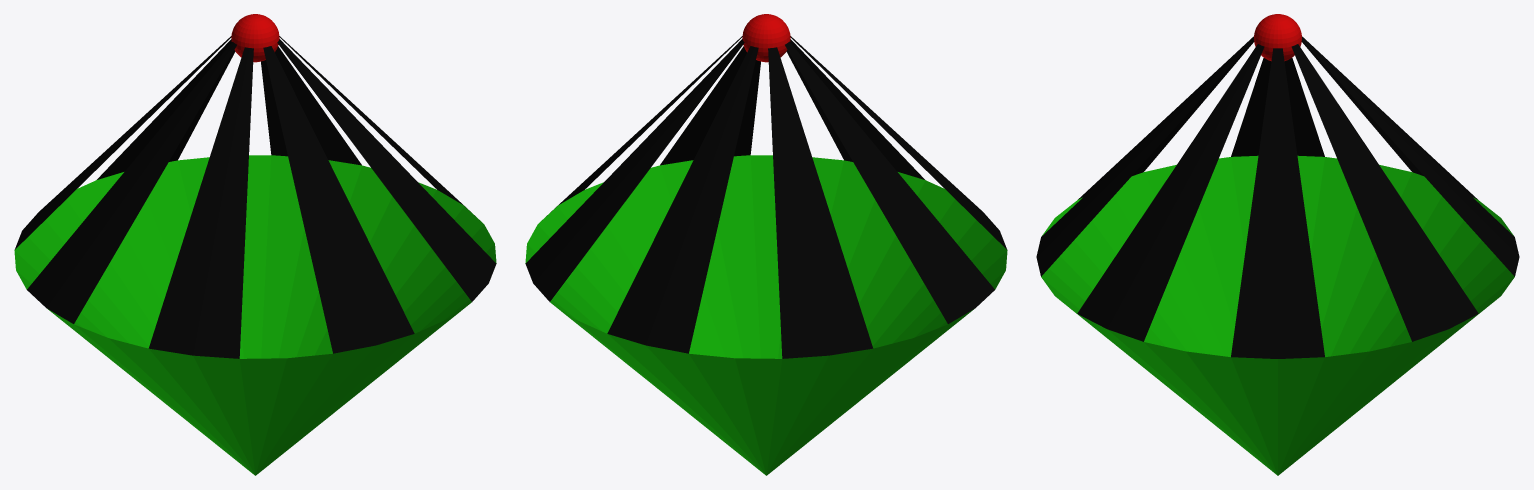
The model's file is Enemy_1.obj.
The picture shows the model from 3 angles, left to right: view 1: azimuth 30°, elevation 25°; view 2: azimuth 150°, elevation 25°; view 3: azimuth 270°, elevation 25°; orthographic projection.
Visible parts, largest first — view 1: Cone; view 2: Cone; view 3: Cone.
Part boxes in pixels (x1=…): Cone: x1=14, y1=14, x2=496, y2=475; Cone: x1=525, y1=14, x2=1007, y2=475; Cone: x1=1036, y1=14, x2=1519, y2=475.
Bounding box in the file's own units: 2 × 2.1 × 2.
